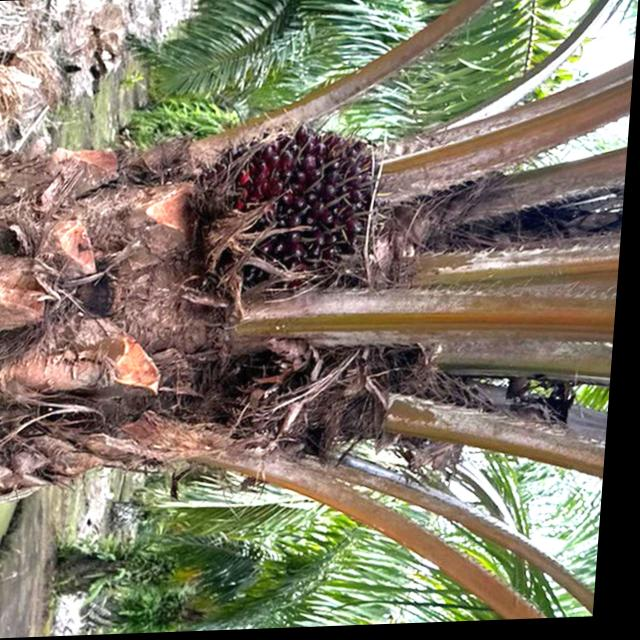ripe: (218, 133, 386, 314)
